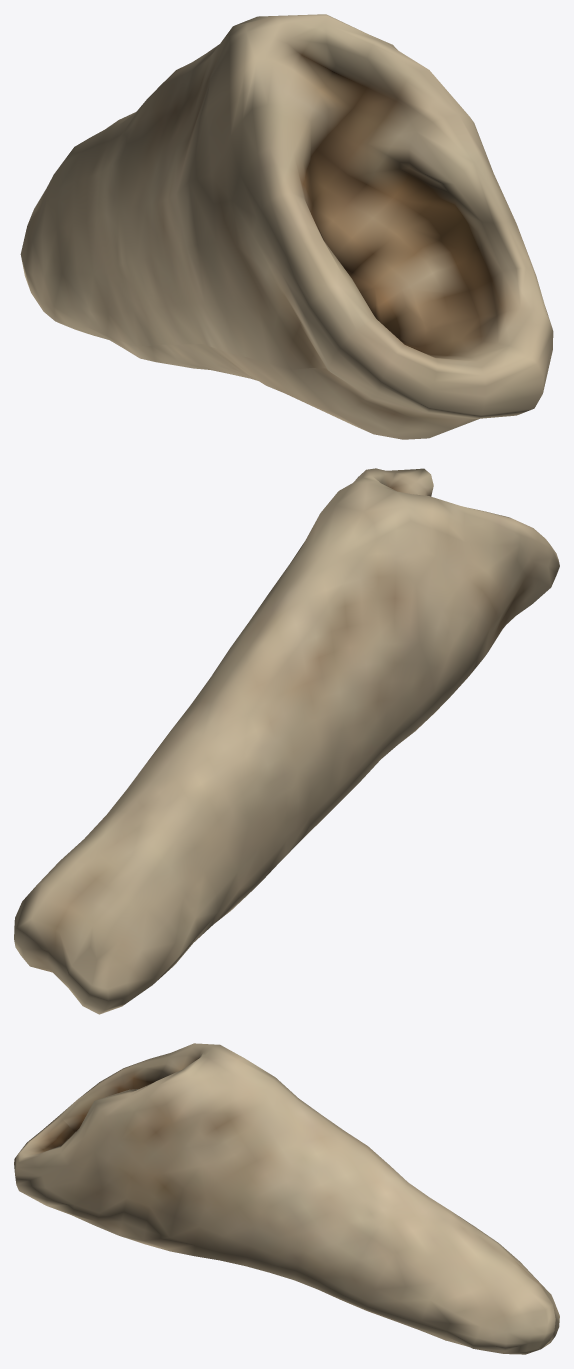
File: Lower_Incisor1.glb
3 views of the same model, one above another, from view 1: azimuth 30°, elevation 25°; view 2: azimuth 150°, elevation 25°; view 3: azimuth 270°, elevation 25° (orthographic). The views are drawn at different scales.
Parts seen in each view (by area): view 1: Group26536_Mesh.003; view 2: Group26536_Mesh.003; view 3: Group26536_Mesh.003.
Part boxes in pixels (box(x1,y1,x2,y2)): Group26536_Mesh.003: box(20, 14, 553, 439); Group26536_Mesh.003: box(14, 468, 559, 1014); Group26536_Mesh.003: box(14, 1043, 559, 1354).
Size of the model in its own units: 0.0131 by 0.0201 by 0.036.
Materials: 1 (1 with a texture image).
